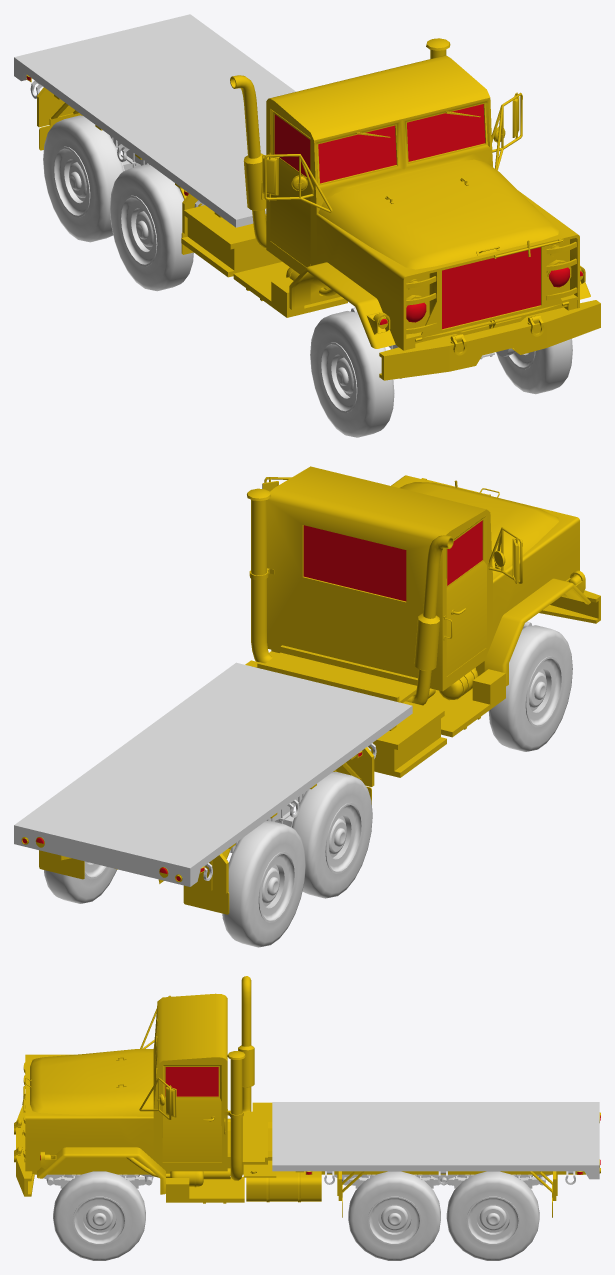
The model's file is MilitaryTruckFullTestFlatbed.fbx.
The picture shows the model from 3 angles, top to bottom: view 1: azimuth 30°, elevation 25°; view 2: azimuth 150°, elevation 25°; view 3: azimuth 270°, elevation 25°; orthographic projection. The views are drawn at different scales.
Visible parts, largest first — view 1: TruckVoorkant, Achterkant Flatbed, WielVooraan, TruckOnderkant, WielMidden, WielAchter, Veringen; view 2: TruckVoorkant, Achterkant Flatbed, TruckOnderkant, WielAchter, WielMidden, WielVooraan; view 3: TruckVoorkant, Achterkant Flatbed, TruckOnderkant, WielAchter, WielVooraan, WielMidden, Veringen.
Part boxes in pixels (x1,y1,x2,y2): TruckVoorkant: [230, 38, 600, 380]; Achterkant Flatbed: [14, 14, 295, 227]; WielVooraan: [310, 311, 572, 437]; TruckOnderkant: [26, 75, 347, 317]; WielMidden: [110, 164, 193, 291]; WielAchter: [43, 115, 123, 242]; Veringen: [110, 135, 515, 378]; TruckVoorkant: [247, 466, 600, 705]; Achterkant Flatbed: [14, 662, 412, 886]; TruckOnderkant: [21, 645, 505, 914]; WielAchter: [44, 820, 305, 947]; WielMidden: [292, 771, 372, 898]; WielVooraan: [488, 625, 572, 751]; TruckVoorkant: [14, 976, 254, 1196]; Achterkant Flatbed: [272, 1102, 599, 1184]; TruckOnderkant: [32, 1102, 600, 1217]; WielAchter: [446, 1171, 539, 1260]; WielVooraan: [53, 1171, 145, 1260]; WielMidden: [348, 1171, 440, 1260]; Veringen: [43, 1174, 550, 1188].
Bounding box in the file's own units: 109 × 116 × 292.
